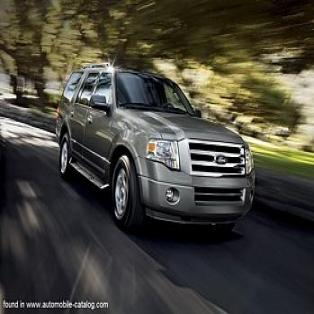Auto: (51, 62, 259, 234)
